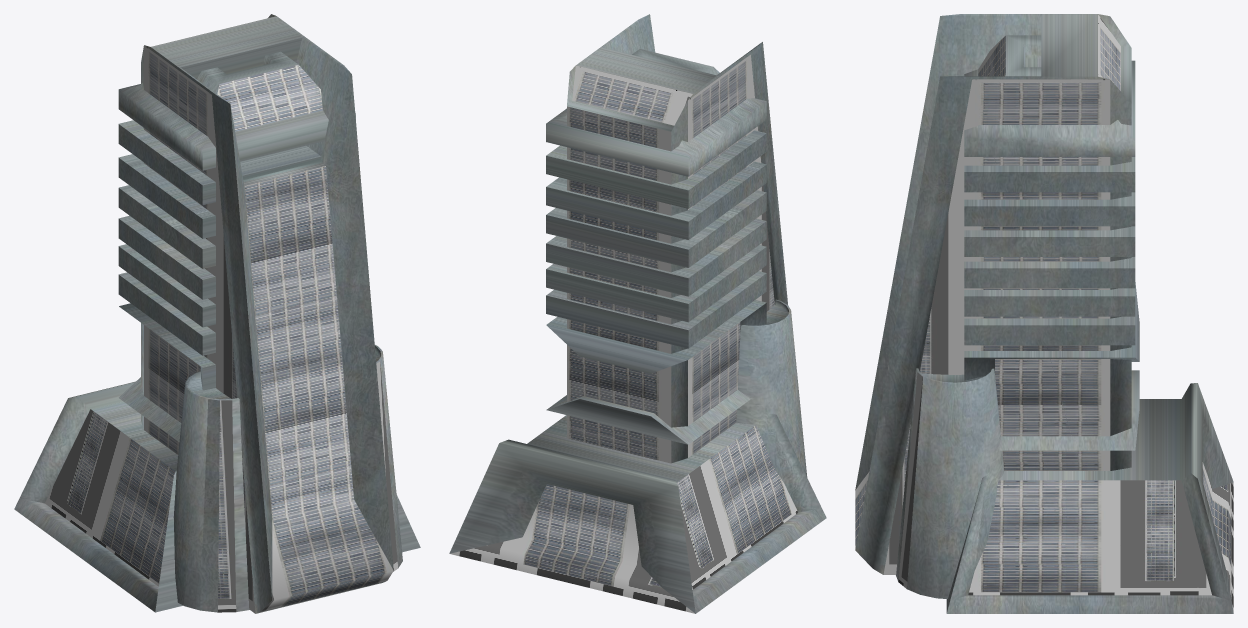
The model's file is building_7.fbx.
3 renders of one model, left to right at view 1: azimuth 30°, elevation 25°; view 2: azimuth 150°, elevation 25°; view 3: azimuth 270°, elevation 25°, orthographic. The views are drawn at different scales.
Parts seen in each view (by area): view 1: scifi_dowtown_scenery:mesh07; view 2: scifi_dowtown_scenery:mesh07; view 3: scifi_dowtown_scenery:mesh07.
Part boxes in pixels (<box>): scifi_dowtown_scenery:mesh07: <box>14,14,420,613</box>; scifi_dowtown_scenery:mesh07: <box>449,14,826,613</box>; scifi_dowtown_scenery:mesh07: <box>855,14,1233,613</box>.
Bounding box in the file's own units: 6210 × 11042 × 7533.
